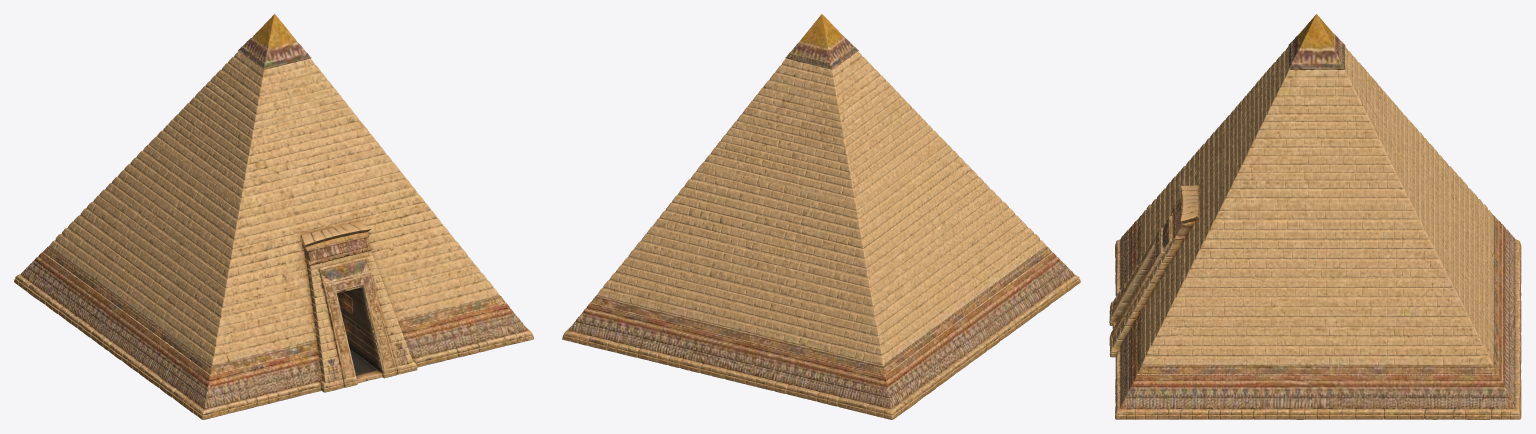
3 renders of one model, left to right at view 1: azimuth 30°, elevation 25°; view 2: azimuth 150°, elevation 25°; view 3: azimuth 270°, elevation 25°, orthographic. The views are drawn at different scales.
Parts seen in each view (by area): view 1: tripo_node_2fc42725-ea11-45c9-89c8-8ab6df7e65a9; view 2: tripo_node_2fc42725-ea11-45c9-89c8-8ab6df7e65a9; view 3: tripo_node_2fc42725-ea11-45c9-89c8-8ab6df7e65a9.
Part boxes in pixels (bbox=[...]): tripo_node_2fc42725-ea11-45c9-89c8-8ab6df7e65a9: bbox=[14, 14, 533, 419]; tripo_node_2fc42725-ea11-45c9-89c8-8ab6df7e65a9: bbox=[562, 14, 1080, 419]; tripo_node_2fc42725-ea11-45c9-89c8-8ab6df7e65a9: bbox=[1109, 14, 1521, 419].
Size of the model in its own units: 0.9801 by 0.835 by 0.978.
Materials: 1 (1 with a texture image).
